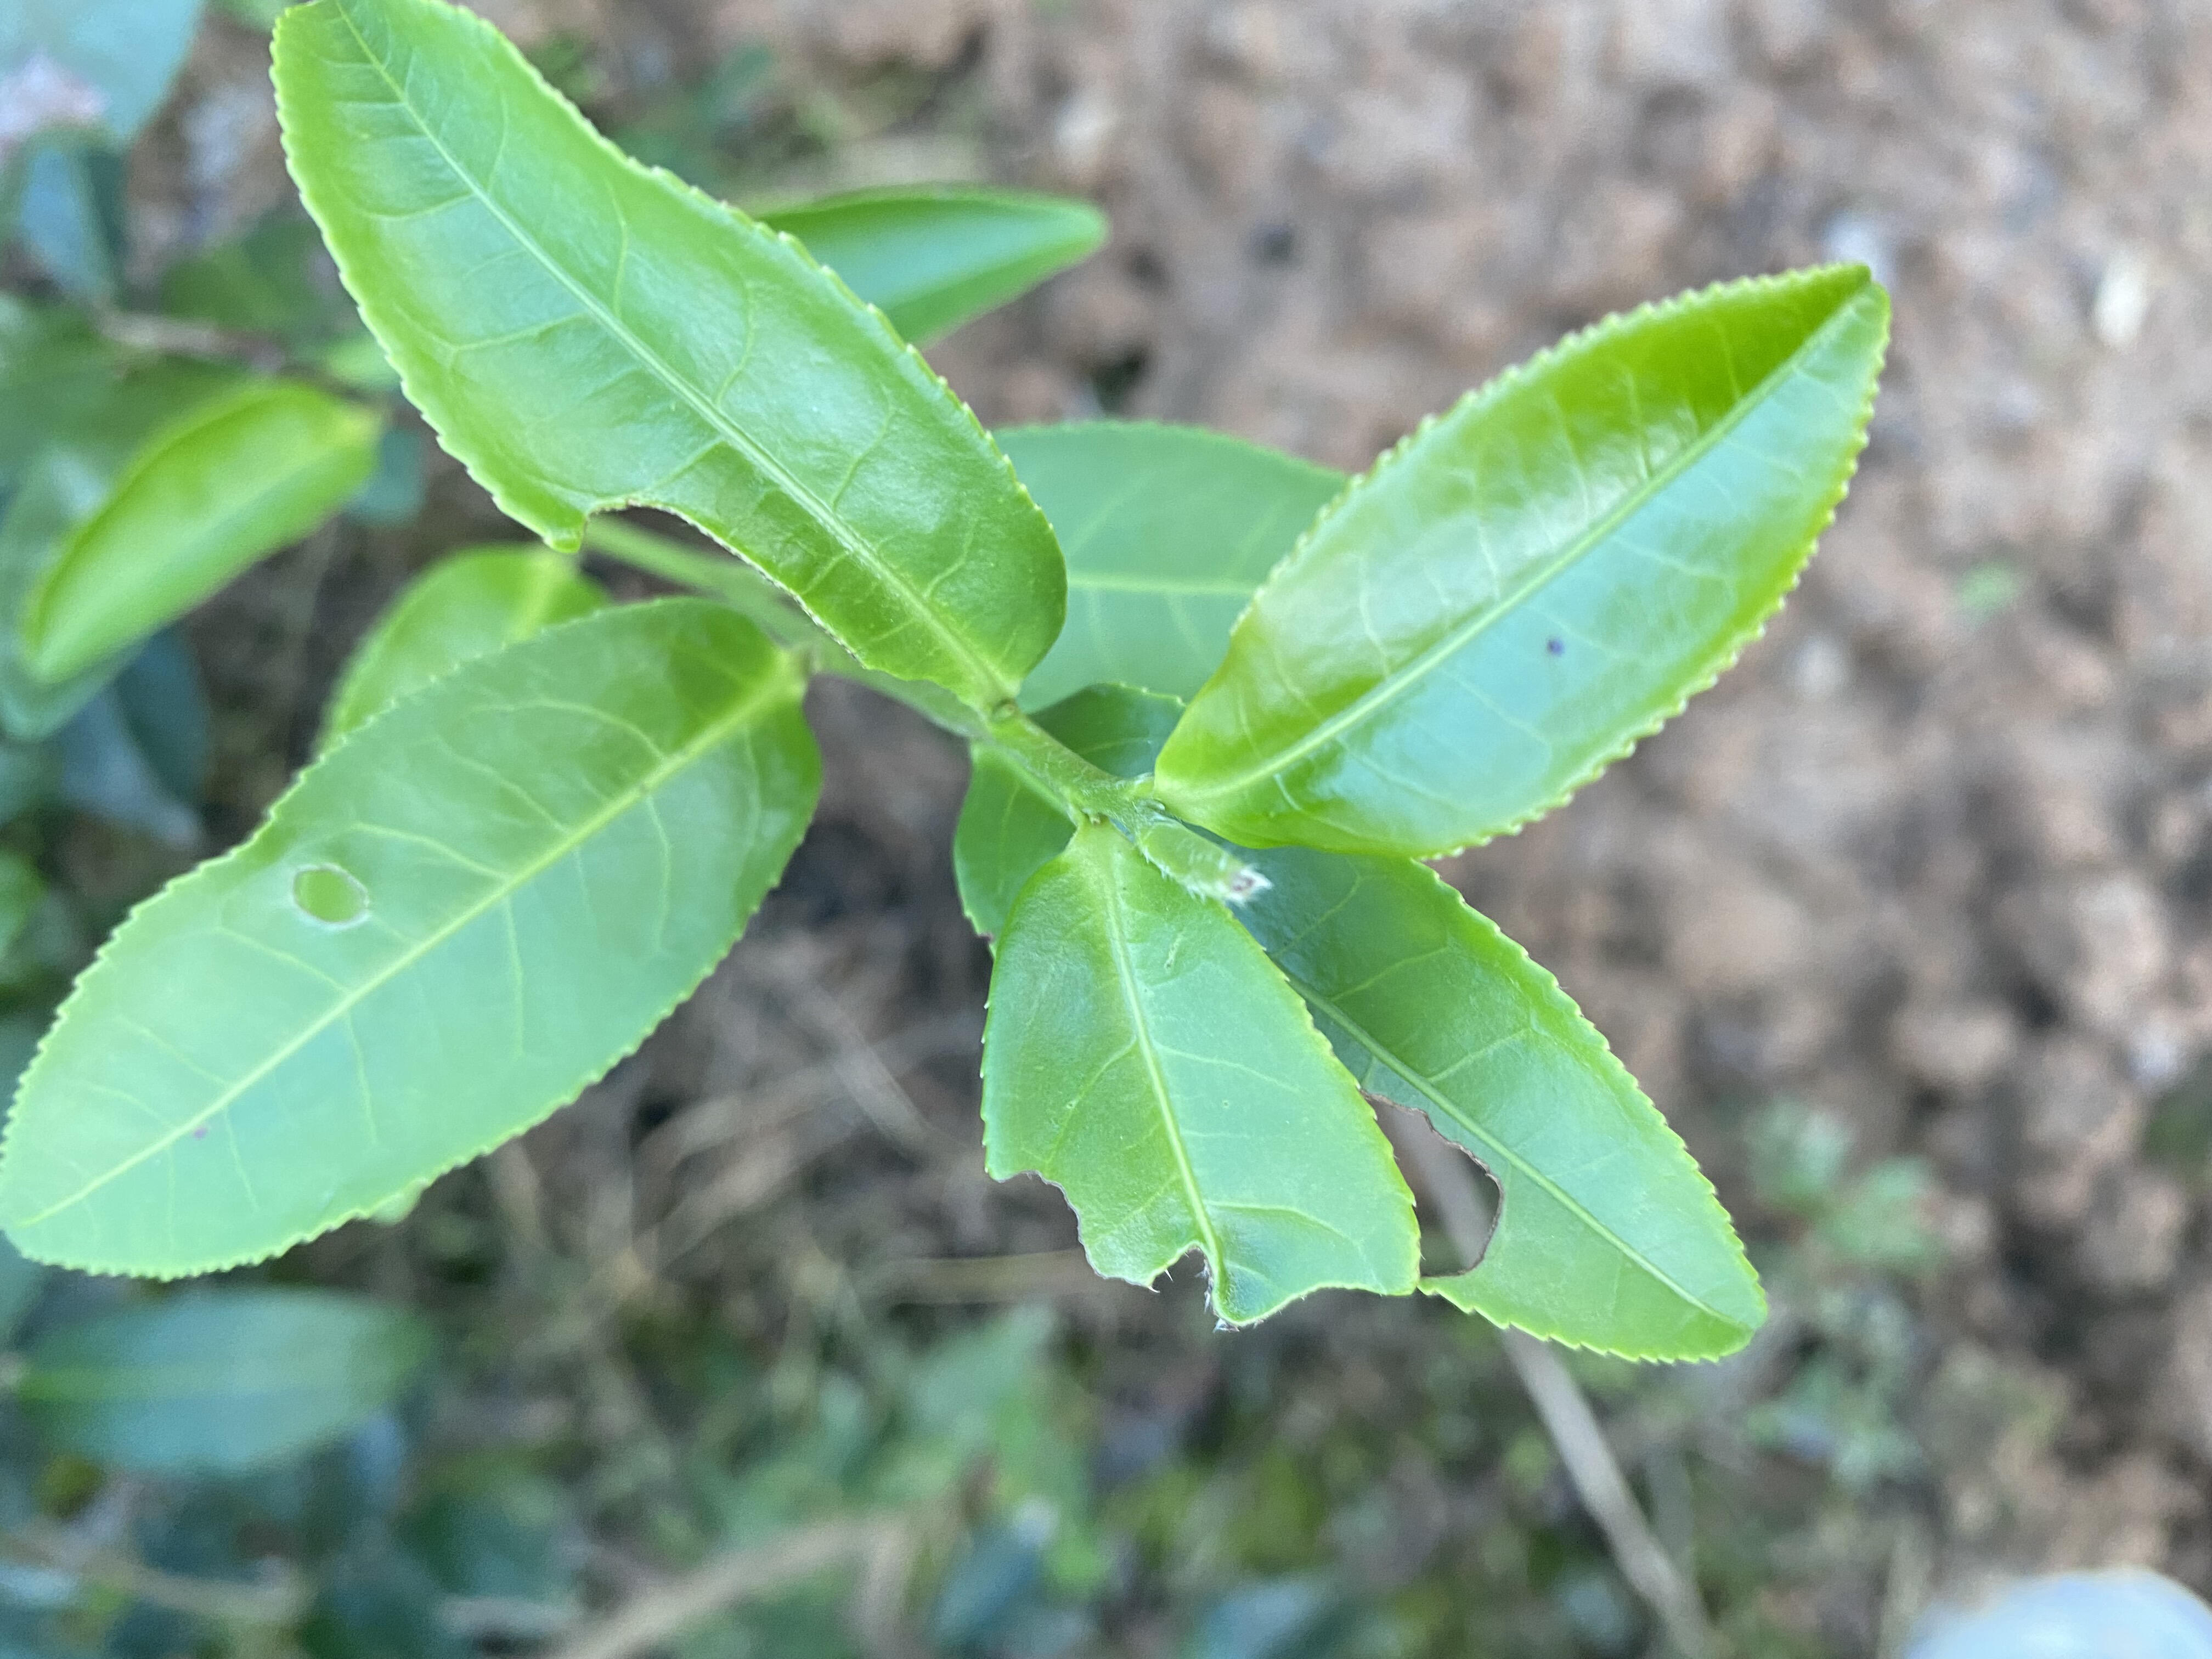chihuo_high: (977, 833, 1425, 1338)
chihuo_low: (265, 3, 1066, 730), (5, 596, 824, 1288)
healthy: (1151, 263, 1895, 864)
